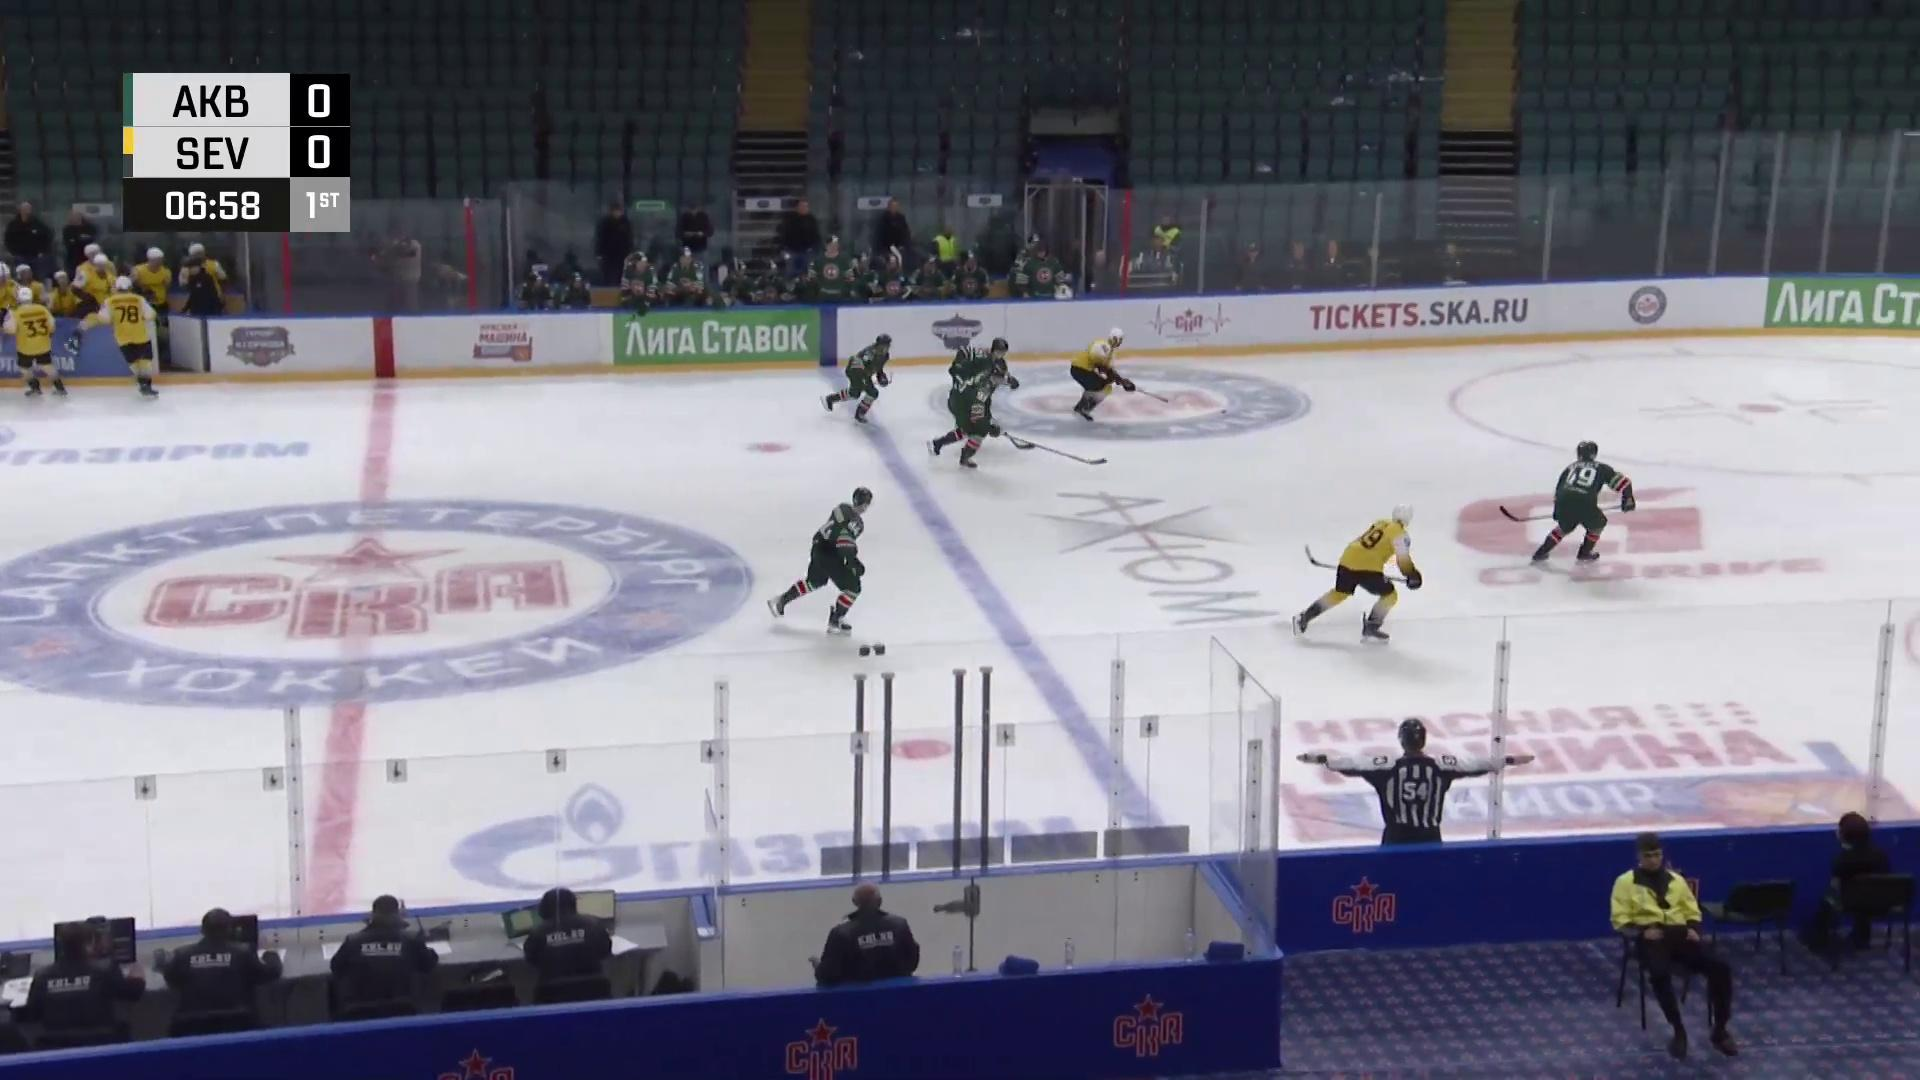ball: (1221, 409, 1228, 415)
